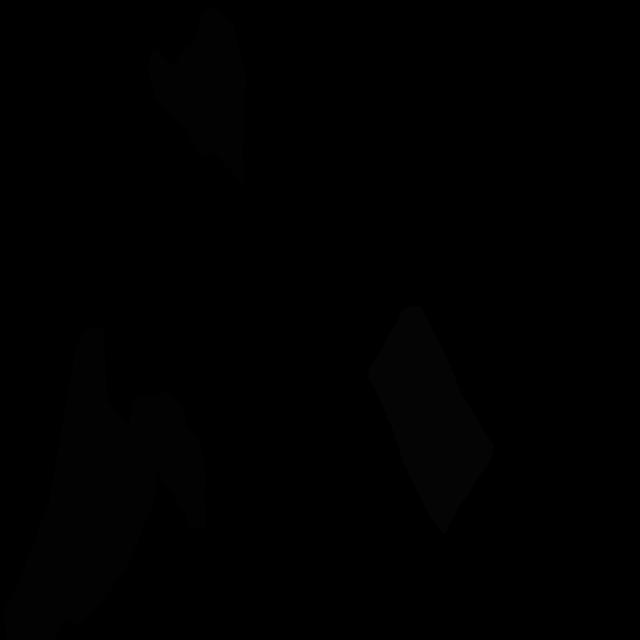cardboard: (2, 329, 158, 640), (147, 5, 248, 188), (128, 390, 206, 527)
soft_plastic: (368, 305, 494, 534)
